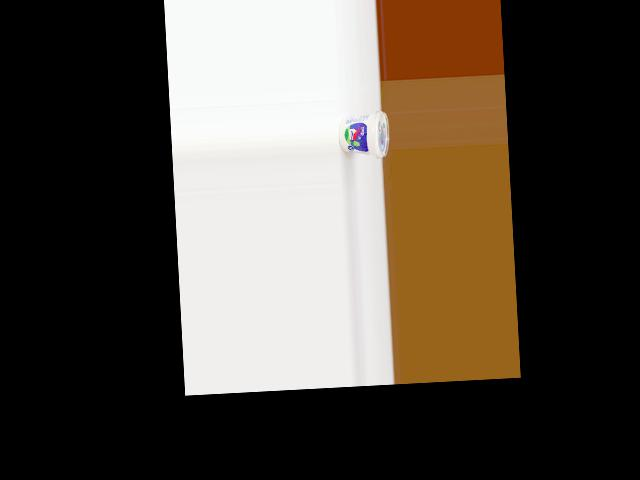cotage: (337, 108, 390, 159)
